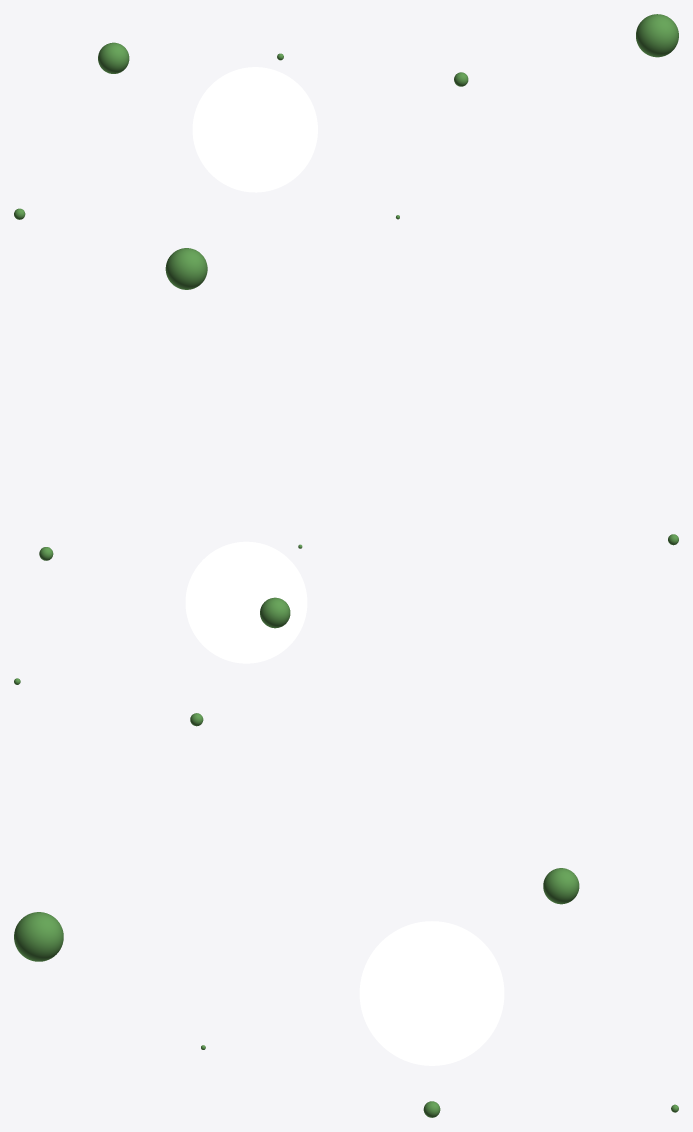
File: Star System - Uzroa5.glb
3 views of the same model, one above another, from view 1: azimuth 30°, elevation 25°; view 2: azimuth 150°, elevation 25°; view 3: azimuth 270°, elevation 25° (orthographic). The views are drawn at different scales.
Parts seen in each view (by area): view 1: Star-Sun, Planet-Heliter, Planet-Ilmouliv; view 2: Star-Sun, Planet-Heliter, Planet-Ilmouliv; view 3: Star-Sun, Planet-Heliter, Planet-Ilmouliv.
Part boxes in pixels (x1,y1,x2,y2): Star-Sun: (192,67,317,192); Planet-Heliter: (636,14,678,57); Planet-Ilmouliv: (98,42,129,73); Star-Sun: (185,541,307,663); Planet-Heliter: (165,248,207,289); Planet-Ilmouliv: (260,597,290,628); Star-Sun: (359,921,504,1065); Planet-Heliter: (14,912,63,961); Planet-Ilmouliv: (543,868,579,904).
Size of the model in its own units: 6.05e+08 by 2.33e+08 by 5.09e+08.
